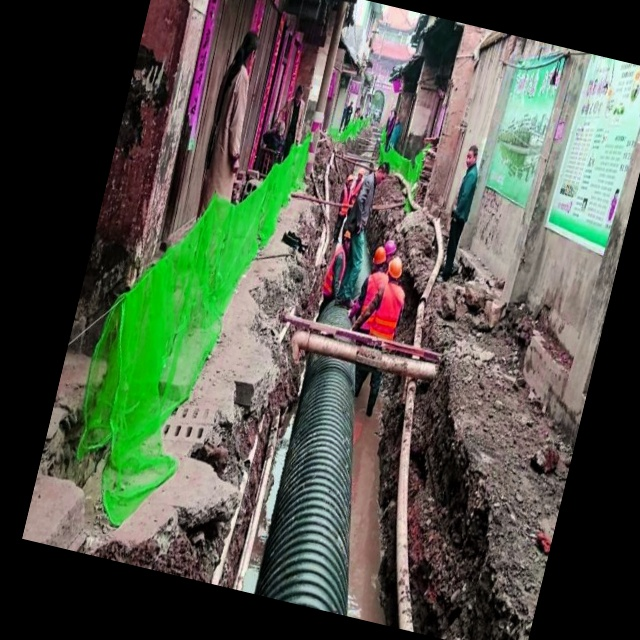Con_Casco: (385, 255, 406, 284), (371, 246, 389, 270)
Con_Chaleco: (366, 283, 406, 343), (322, 246, 350, 297)
Sin_Casco_Mascarrilla: (235, 29, 262, 72), (374, 159, 392, 187), (464, 143, 481, 167)
Sin_Chaleco: (449, 167, 481, 221)
